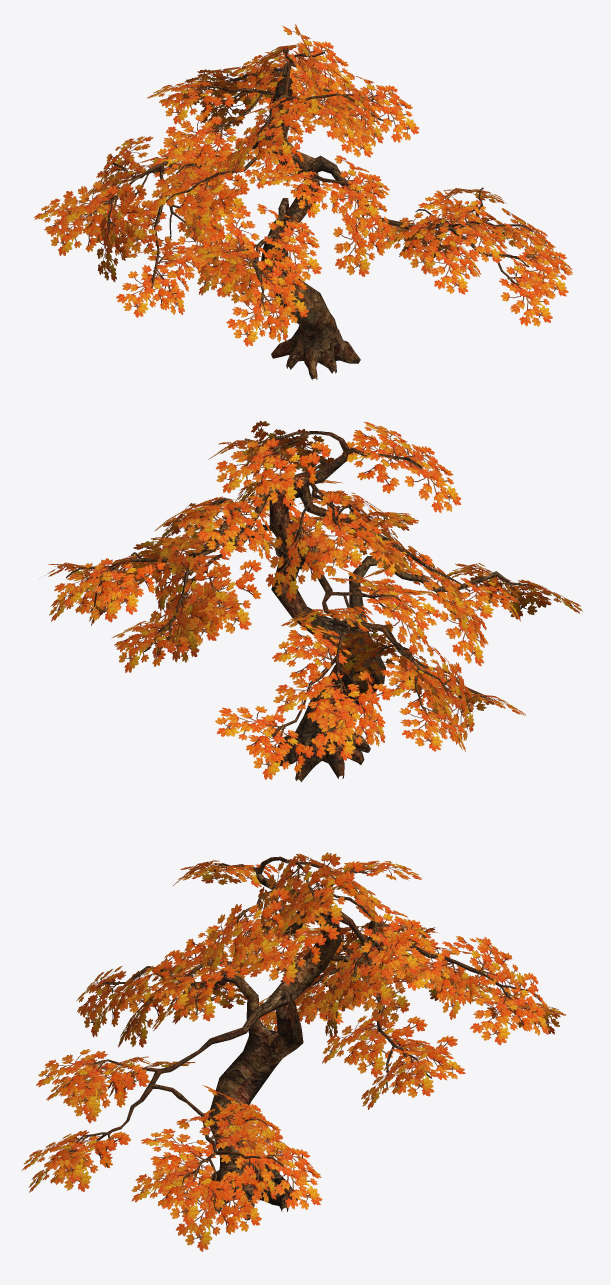
File: S_Tree_Yellow040.FBX
3 renders of one model, top to bottom at view 1: azimuth 30°, elevation 25°; view 2: azimuth 150°, elevation 25°; view 3: azimuth 270°, elevation 25°, orthographic. The views are drawn at different scales.
Parts seen in each view (by area): view 1: S_Tree_Yellow040; view 2: S_Tree_Yellow040; view 3: S_Tree_Yellow040.
Boxes of the visible parts, x1,y1,x2,y2 form: S_Tree_Yellow040: (34,24,573,380); S_Tree_Yellow040: (44,421,582,781); S_Tree_Yellow040: (22,852,566,1251).
Bounding box in the file's own units: 1655 × 1657 × 1157.
